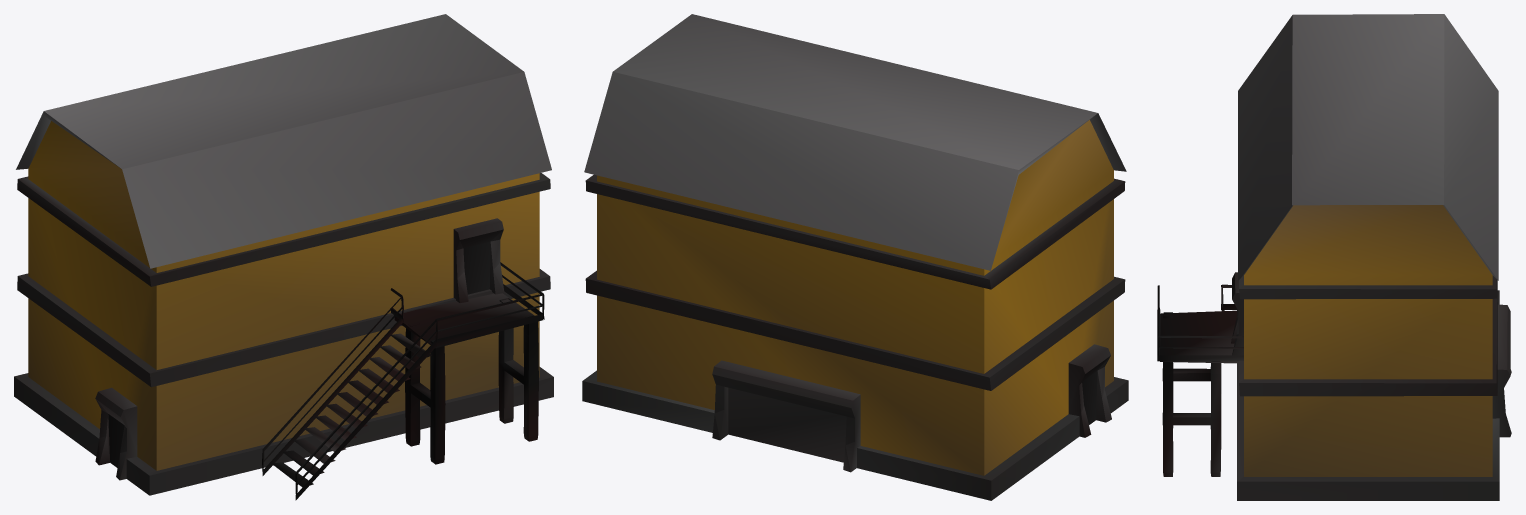
Rendered from Edificio5.fbx.
3 views of the same model, side by side, from view 1: azimuth 30°, elevation 25°; view 2: azimuth 150°, elevation 25°; view 3: azimuth 270°, elevation 25° (orthographic). The views are drawn at different scales.
Parts seen in each view (by area): view 1: edificacao5; view 2: edificacao5; view 3: edificacao5.
Part boxes in pixels (x1,y1,x2,y2): edificacao5: [14, 14, 553, 500]; edificacao5: [582, 14, 1128, 500]; edificacao5: [1157, 14, 1511, 500].
Bounding box in the file's own units: 1688 × 1207 × 1301.
